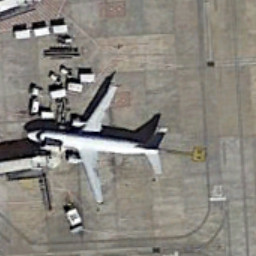Airplane: (23, 73, 176, 215)
